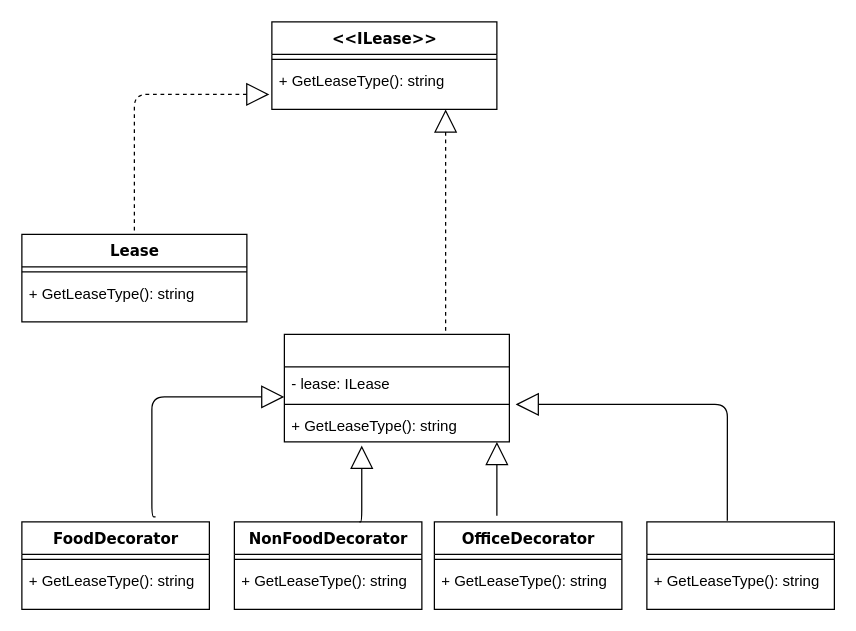
This 856x631 diagram has some shape labels left out. Here are the shapes that lost their labels. From the top down, the box of each, then its label:
(283, 333, 509, 442): LeaseDecorator
(646, 521, 834, 609): StorageDecorator
